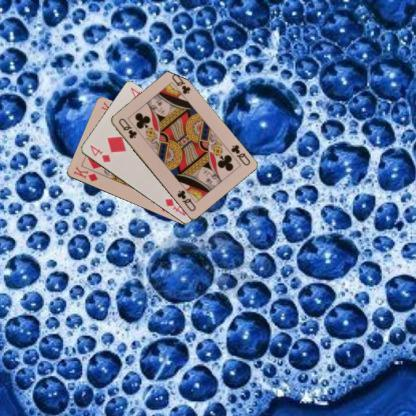4d: (87, 142, 112, 164)
Kd: (70, 164, 99, 183)
Qc: (228, 142, 251, 167), (116, 116, 138, 140)
